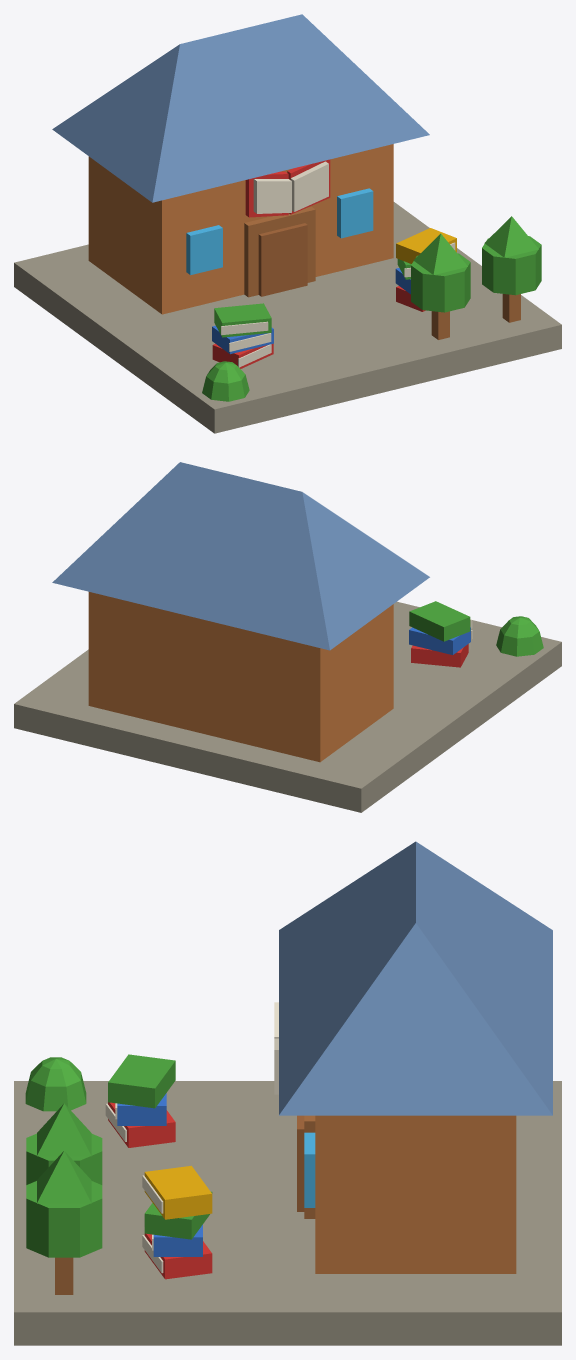
Rendered from library_t1_v2.glb.
3 renders of one model, top to bottom at view 1: azimuth 30°, elevation 25°; view 2: azimuth 150°, elevation 25°; view 3: azimuth 270°, elevation 25°, orthographic. The views are drawn at different scales.
Parts seen in each view (by area): view 1: library_t1_v2; view 2: library_t1_v2; view 3: library_t1_v2.
Boxes of the visible parts, left/top/right/bottom form: library_t1_v2: left=14, top=14, right=561, bottom=433; library_t1_v2: left=14, top=462, right=561, bottom=812; library_t1_v2: left=14, top=841, right=561, bottom=1345.
Size of the model in its own units: 0.6 by 0.42 by 0.6.
1 material, 1 textured.
